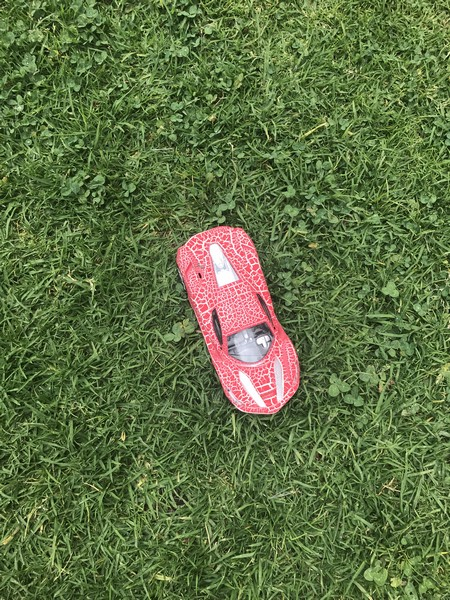RC: (174, 224, 302, 417)
